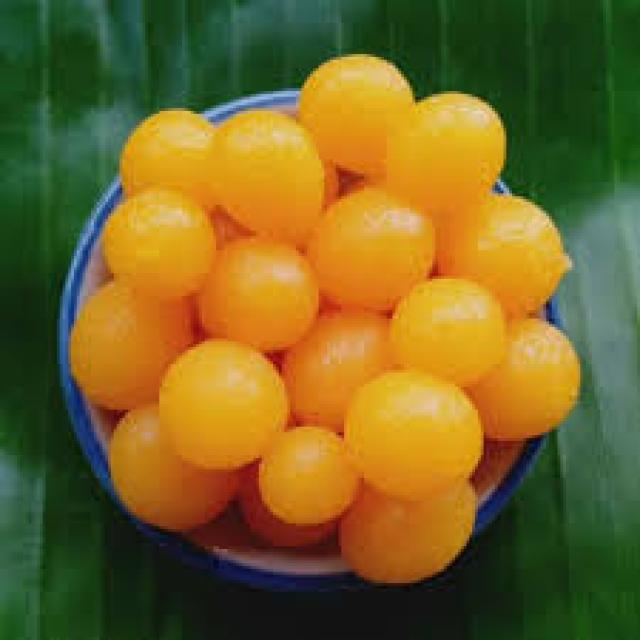Tongyord: (106, 410, 246, 536), (442, 182, 570, 318), (307, 178, 433, 310), (82, 184, 224, 294), (203, 108, 325, 234), (167, 357, 291, 480), (75, 272, 189, 394), (396, 92, 498, 226), (205, 222, 315, 346), (472, 314, 578, 439), (301, 45, 411, 163), (392, 282, 511, 384), (112, 110, 242, 203), (350, 379, 478, 473), (349, 470, 459, 574), (294, 298, 398, 404), (247, 421, 335, 535)
